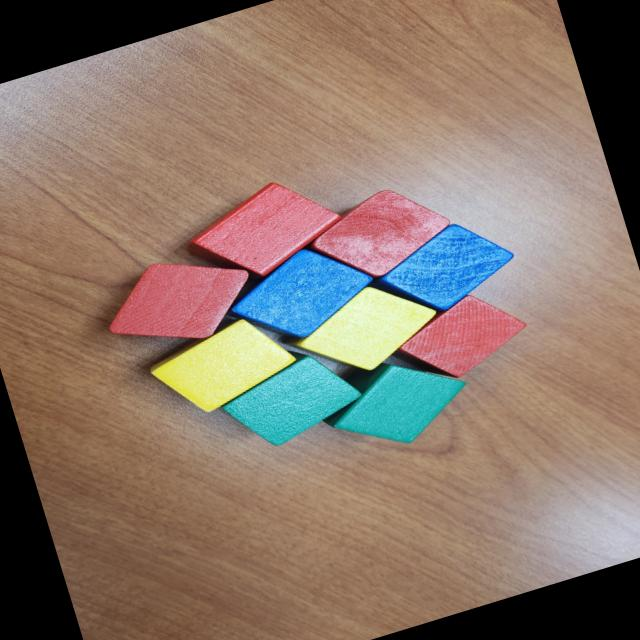blue: (218, 232, 384, 358), (361, 208, 523, 329)
green: (307, 334, 475, 466), (212, 331, 374, 460)
red: (177, 165, 350, 294), (94, 238, 263, 362), (301, 175, 458, 292), (380, 280, 537, 394)
yellow: (270, 269, 450, 395), (141, 307, 304, 427)
